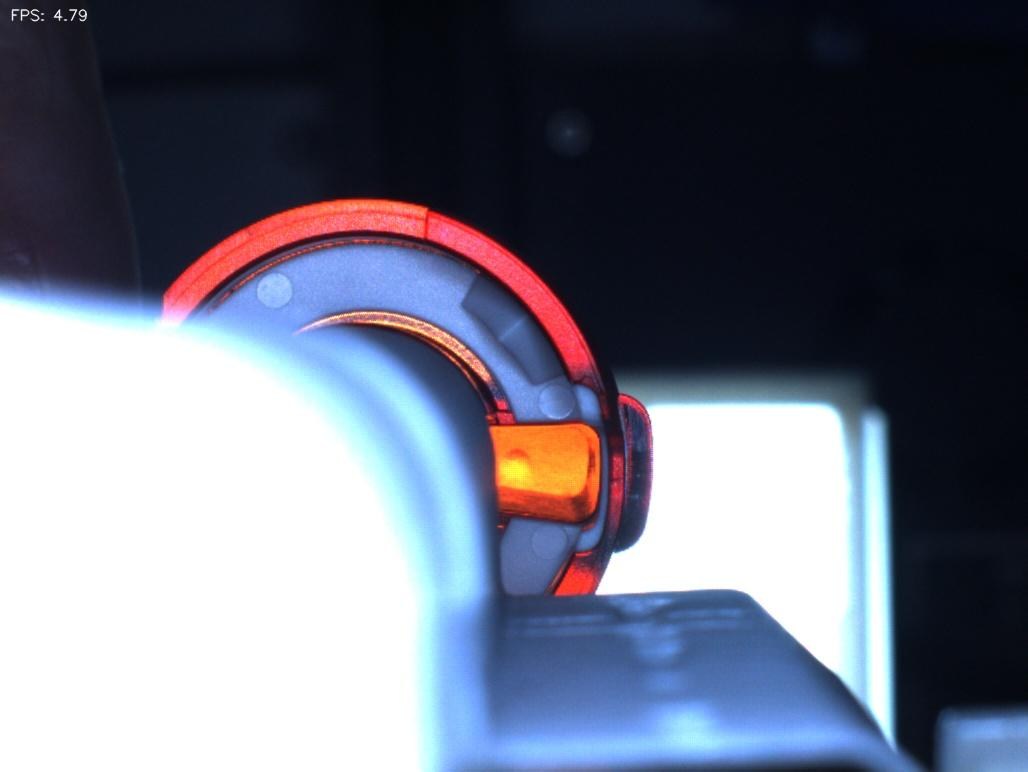Retassure: (489, 430, 559, 506)
